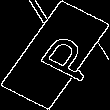P_NW: (18, 26, 92, 84)
